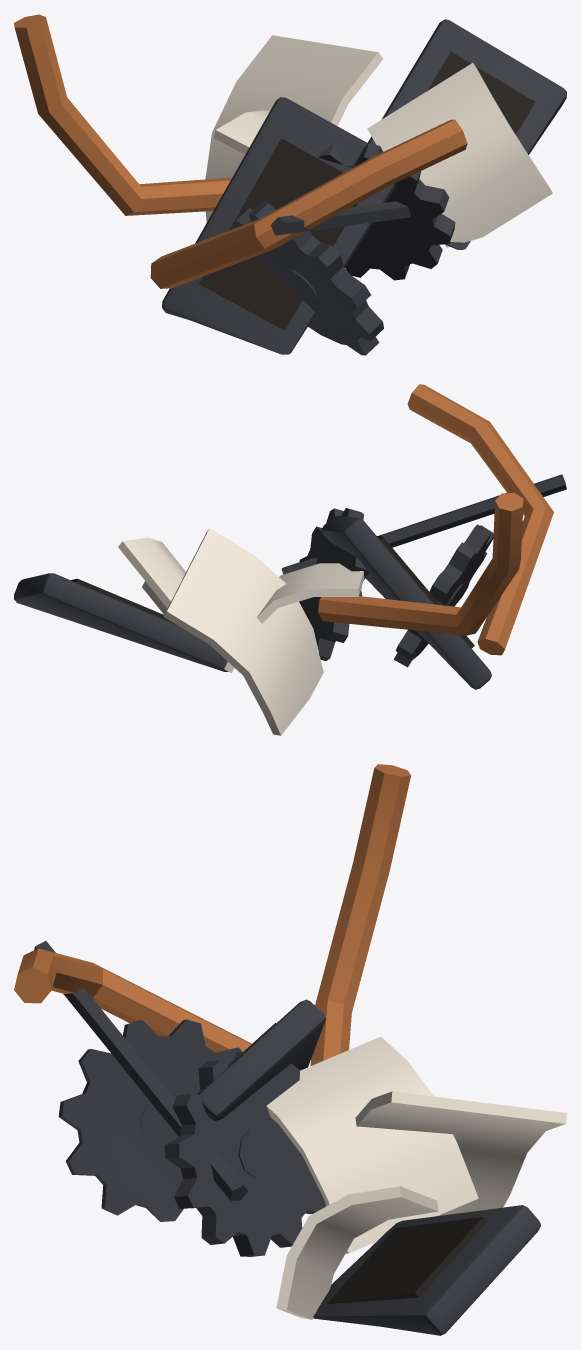
The model's file is deco_scrap_pile_small.fbx.
3 views of the same model, one above another, from view 1: azimuth 30°, elevation 25°; view 2: azimuth 150°, elevation 25°; view 3: azimuth 270°, elevation 25° (orthographic). The views are drawn at different scales.
Visible parts, largest first — view 1: ScrapPile_Small_Scrap; view 2: ScrapPile_Small_Scrap; view 3: ScrapPile_Small_Scrap.
Part boxes in pixels (x1,y1,x2,y2): ScrapPile_Small_Scrap: (14, 14, 566, 355); ScrapPile_Small_Scrap: (14, 384, 566, 735); ScrapPile_Small_Scrap: (14, 764, 566, 1335).
Size of the model in its own units: 133 by 66.67 by 100.
